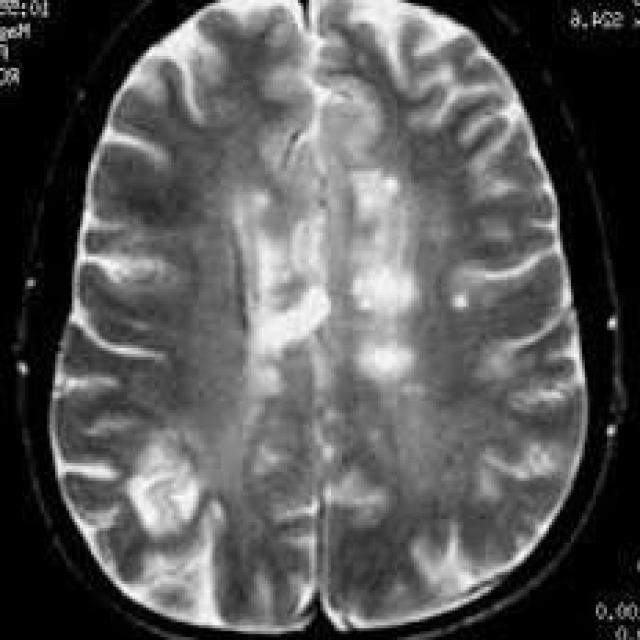notumor: (22, 0, 618, 634)
